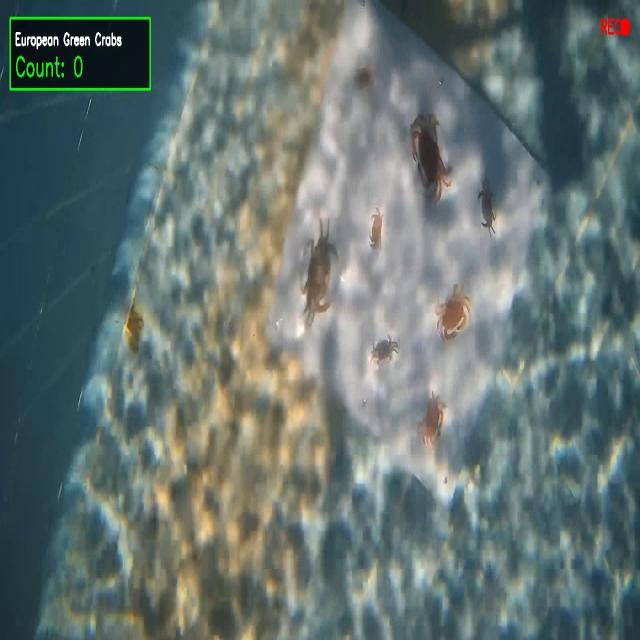European_Green_Crab: (298, 214, 337, 329), (472, 175, 502, 237), (366, 322, 400, 376)
